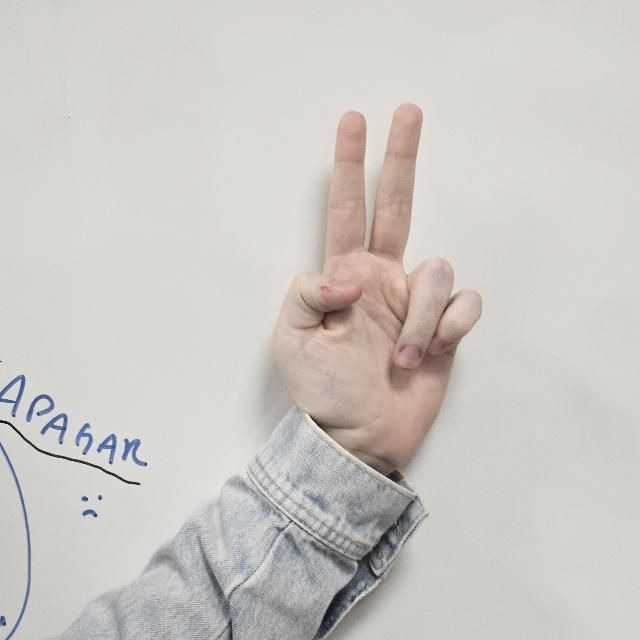Triangulo: (266, 100, 488, 468)
